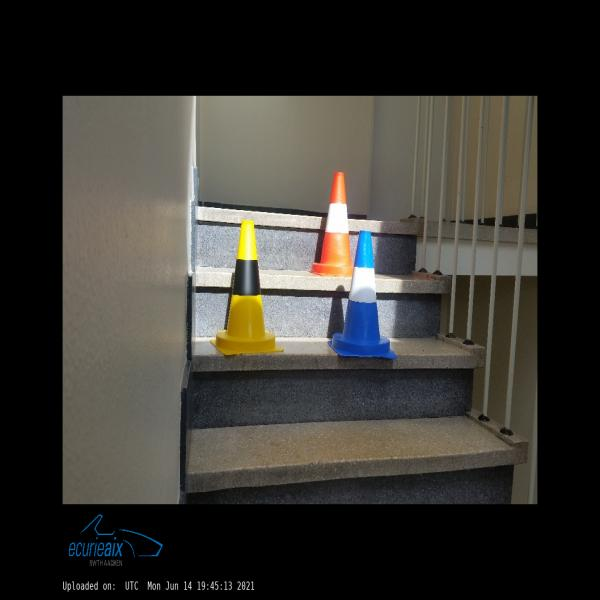blue_cone: (328, 231, 397, 359)
orange_cone: (308, 173, 353, 277)
yellow_cone: (210, 220, 284, 356)
